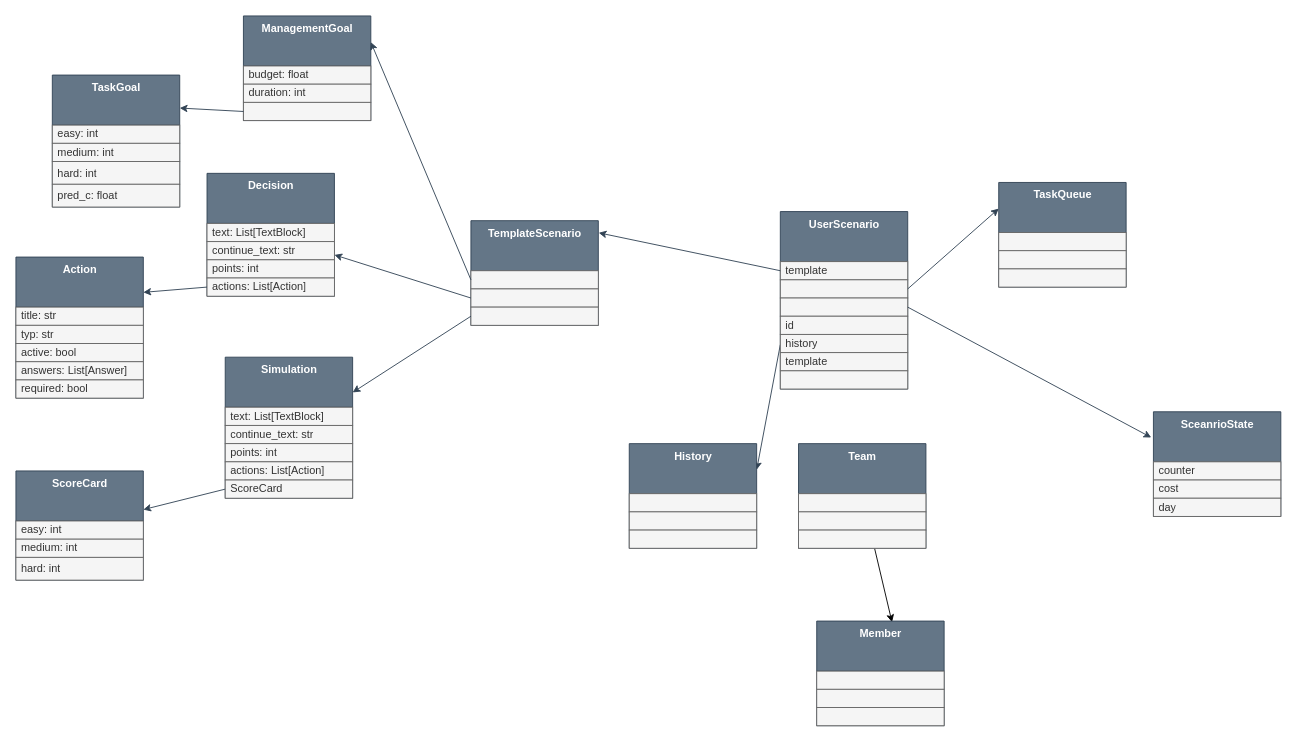
This 1297x742 diagram has some shape labels left out. The shapes that lost their labels are listed below. From the top down, each one's centre as x and y in pixels, then its label:
point 307,111: tasks: Goal
point 534,279: management_goal
point 534,297: decisions: List[Decision]
point 843,288: task_queue
point 534,315: simulation: Simulation
point 843,306: state
